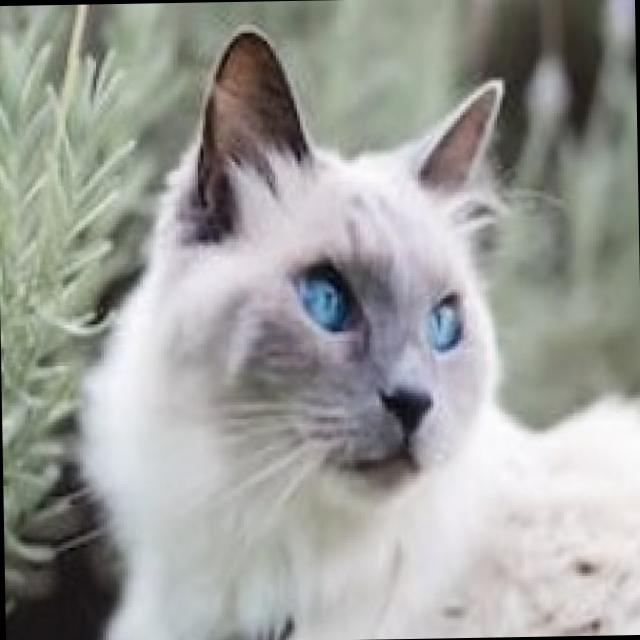Angry: (234, 226, 500, 504)
